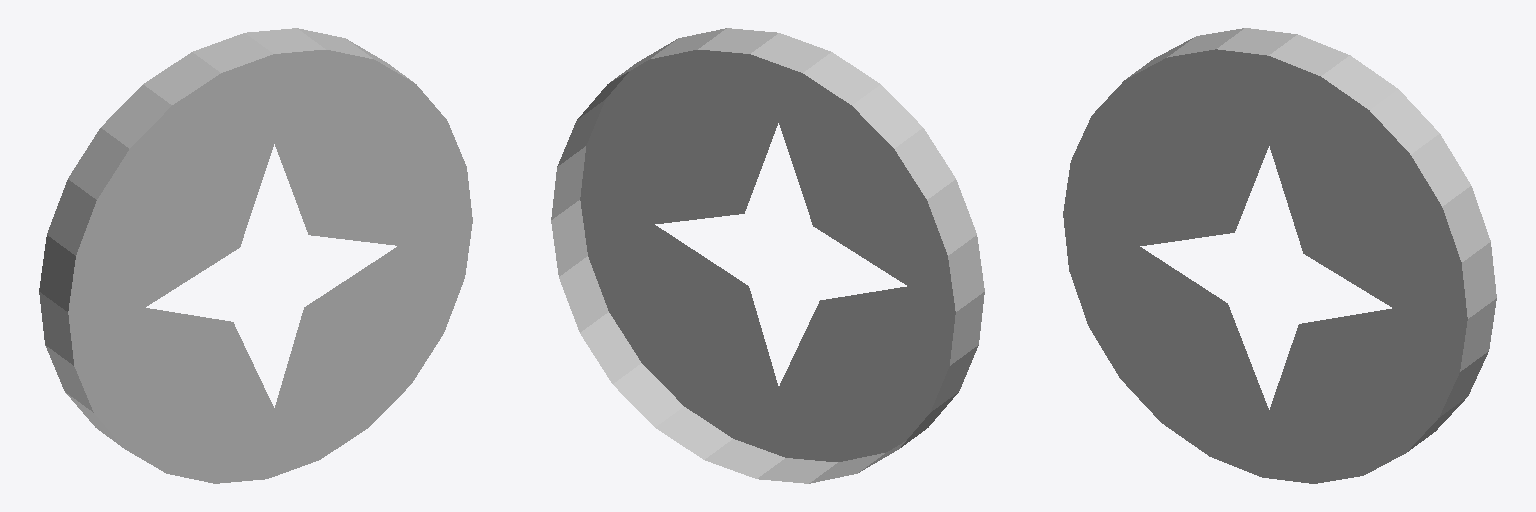
Rendered from original-59.obj.
3 views of the same model, side by side, from view 1: azimuth 30°, elevation 25°; view 2: azimuth 150°, elevation 25°; view 3: azimuth 330°, elevation 25° (orthographic).
Visible parts, largest first — view 1: #ID18; view 2: #ID18; view 3: #ID18.
Boxes of the visible parts, box(x1,y1,x2,y2) form: #ID18: box(39, 28, 472, 483); #ID18: box(551, 28, 984, 483); #ID18: box(1063, 28, 1496, 483).
Size of the model in its own units: 0.1537 by 0.1537 by 0.0192.